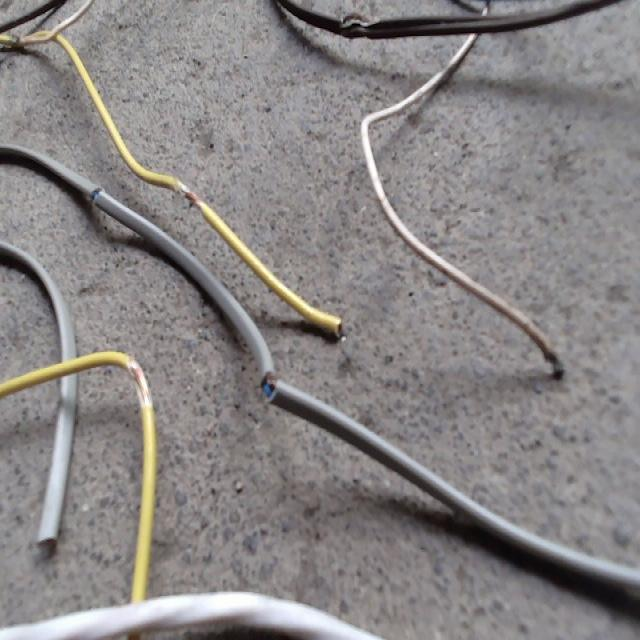-: (124, 353, 153, 408), (338, 8, 378, 36), (175, 177, 202, 211), (259, 369, 277, 400), (87, 183, 104, 204)
